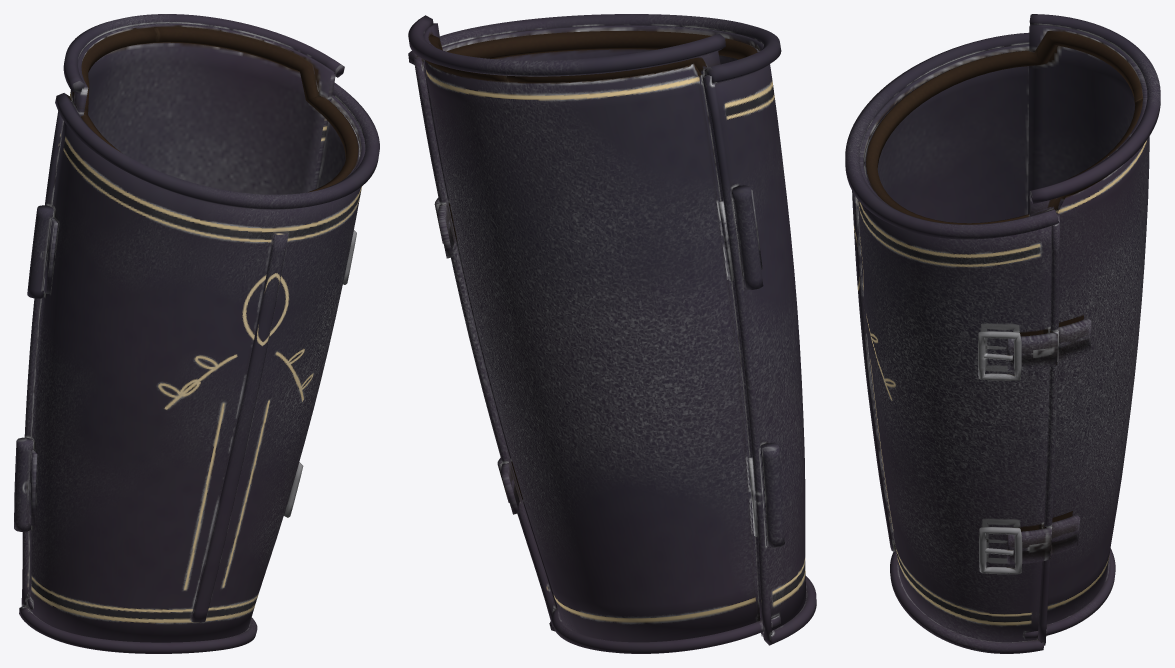
File: SM_ObsidianSovereign_Forearms_R.fbx
3 views of the same model, side by side, from view 1: azimuth 30°, elevation 25°; view 2: azimuth 150°, elevation 25°; view 3: azimuth 270°, elevation 25° (orthographic). The views are drawn at different scales.
Parts seen in each view (by area): view 1: SM_ObsidianSovereign_Forearms_R; view 2: SM_ObsidianSovereign_Forearms_R; view 3: SM_ObsidianSovereign_Forearms_R.
Part boxes in pixels (x1,y1,x2,y2): SM_ObsidianSovereign_Forearms_R: [14, 14, 379, 653]; SM_ObsidianSovereign_Forearms_R: [408, 14, 816, 653]; SM_ObsidianSovereign_Forearms_R: [845, 14, 1160, 653].
Bounding box in the file's own units: 13.1 × 10.76 × 21.44.
